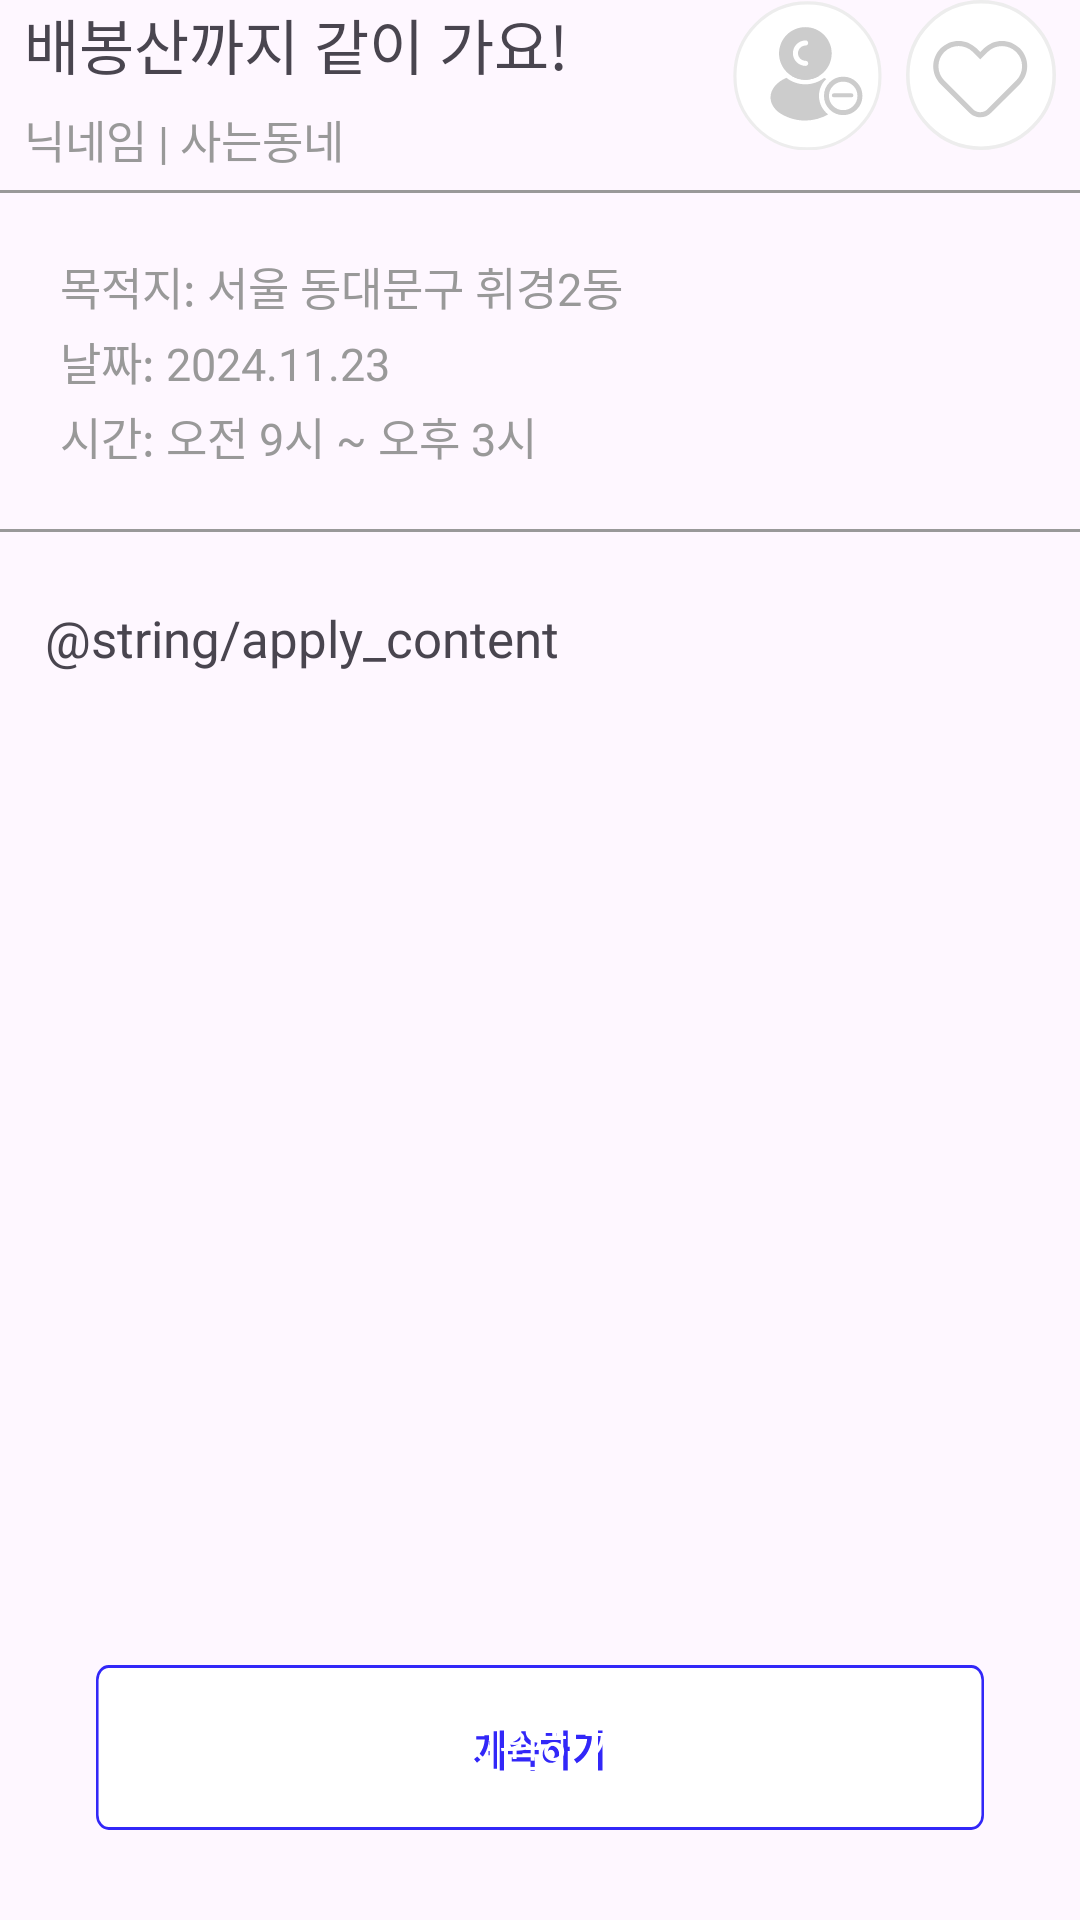

Locate icon controls on the screen. Image size 1080×1920, boxes as (x1, y1, x2, y2).
like unclick: (906, 0, 1056, 150)
